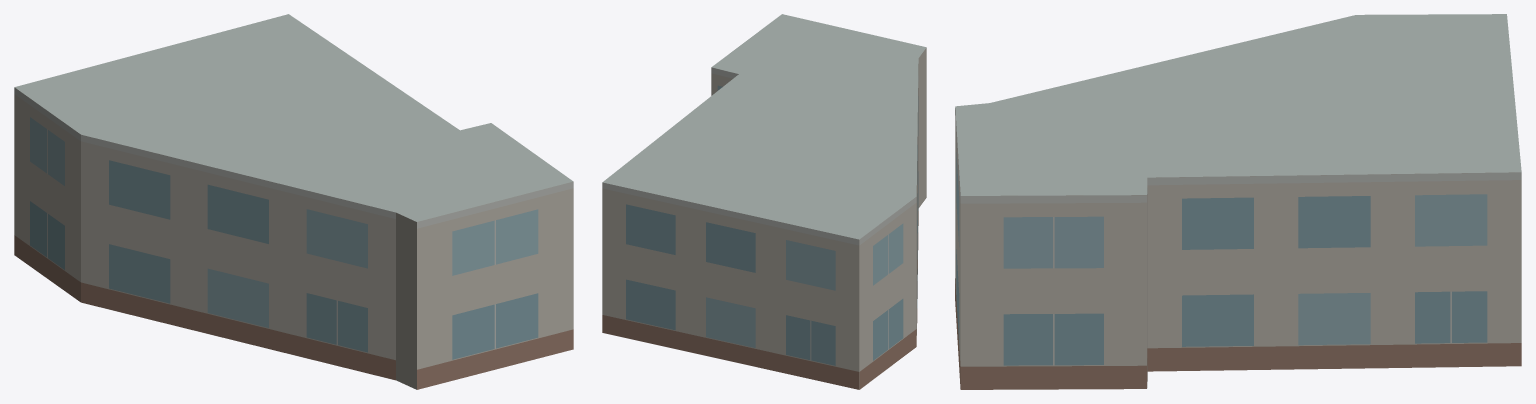
The model's file is survey-upis-32928341.glb.
3 views of the same model, side by side, from view 1: azimuth 30°, elevation 25°; view 2: azimuth 150°, elevation 25°; view 3: azimuth 270°, elevation 25° (orthographic). The views are drawn at different scales.
Visible parts, largest first — view 1: survey-upis-32928341.tmp; view 2: survey-upis-32928341.tmp; view 3: survey-upis-32928341.tmp.
Boxes of the visible parts, left/top/right/bottom form: survey-upis-32928341.tmp: left=14, top=14, right=573, bottom=389; survey-upis-32928341.tmp: left=602, top=14, right=926, bottom=389; survey-upis-32928341.tmp: left=955, top=14, right=1521, bottom=389.
Size of the model in its own units: 12.29 by 6.1 by 16.16.
